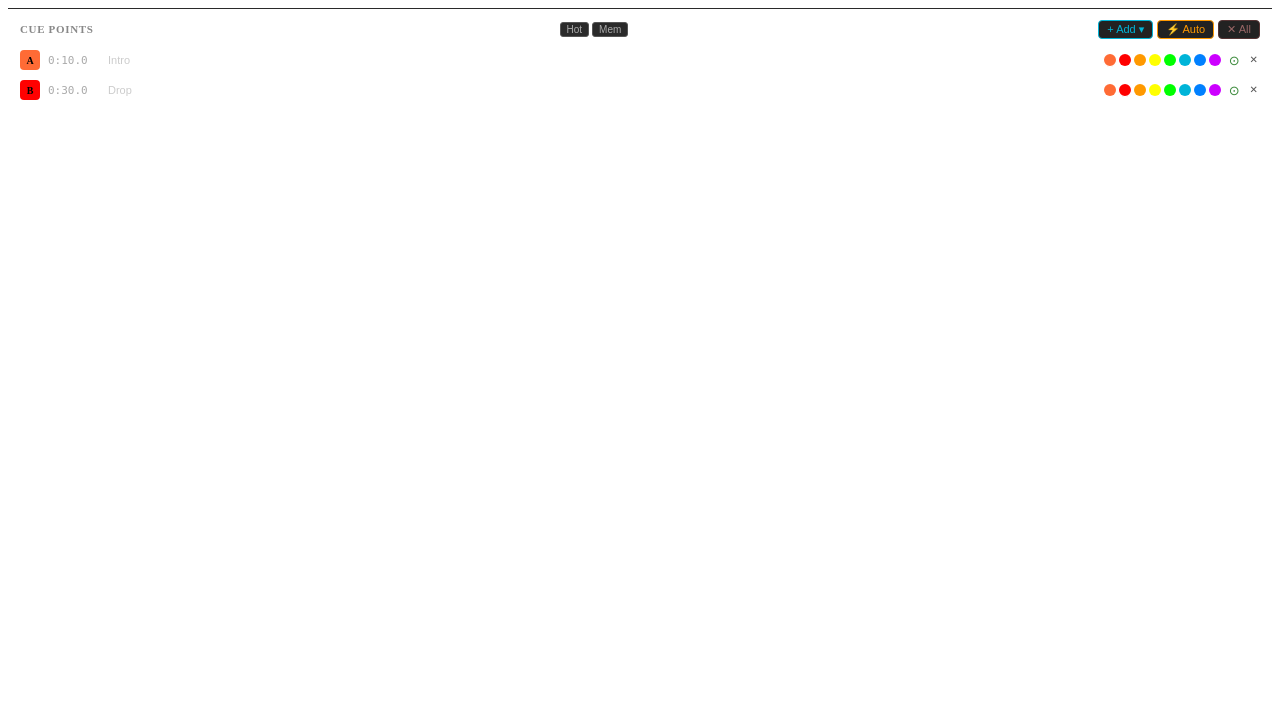
CuePointsEditor — hot cue slot swap › swaps both cues when the swap is confirmed
Click the text with class "cpe__badge" showing "B".
click(30, 90)  # box [20, 80, 40, 100]
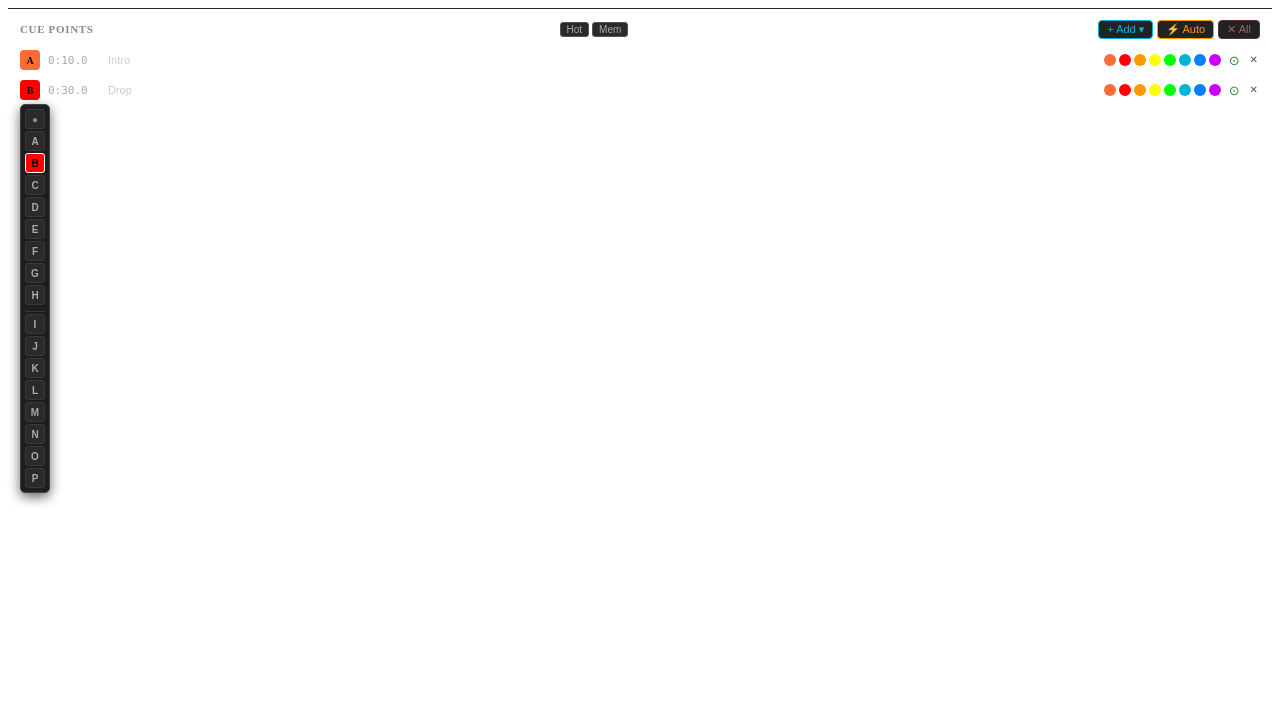
Click the button titled "Hot cue A".
click(35, 141)  # box [25, 131, 45, 151]
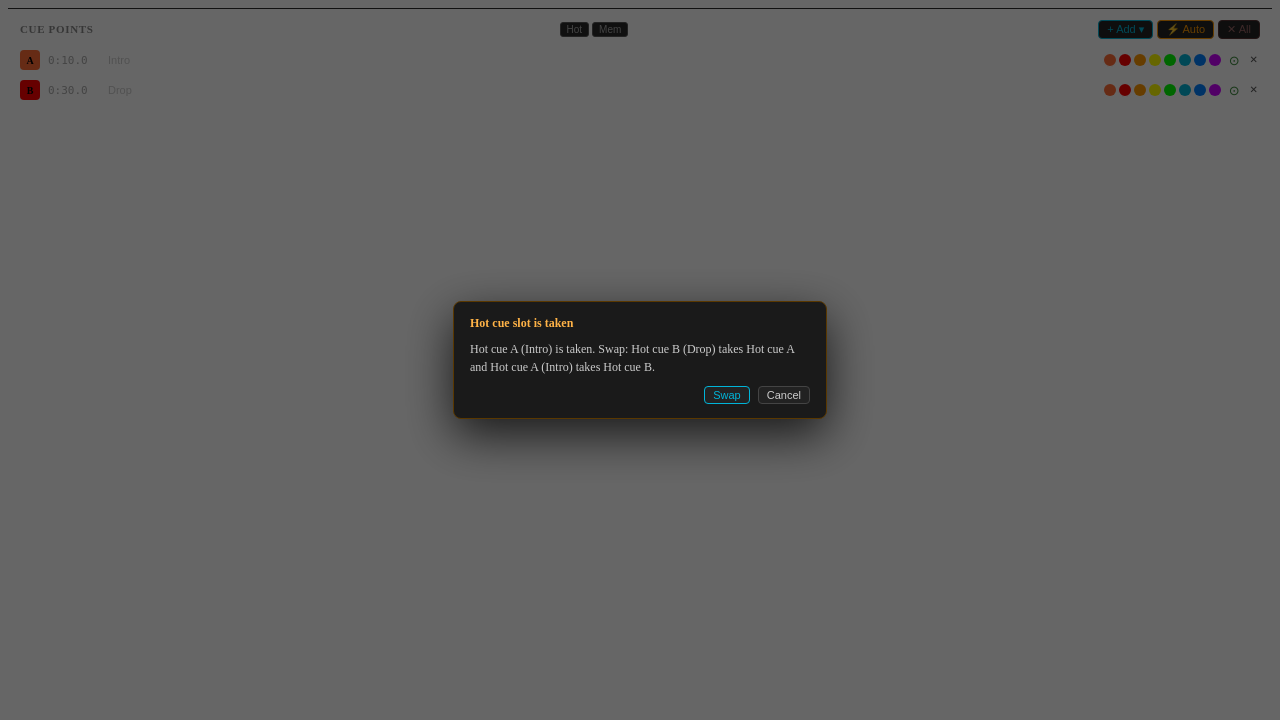
Click the button "Swap".
click(727, 395)  # box [704, 386, 750, 404]
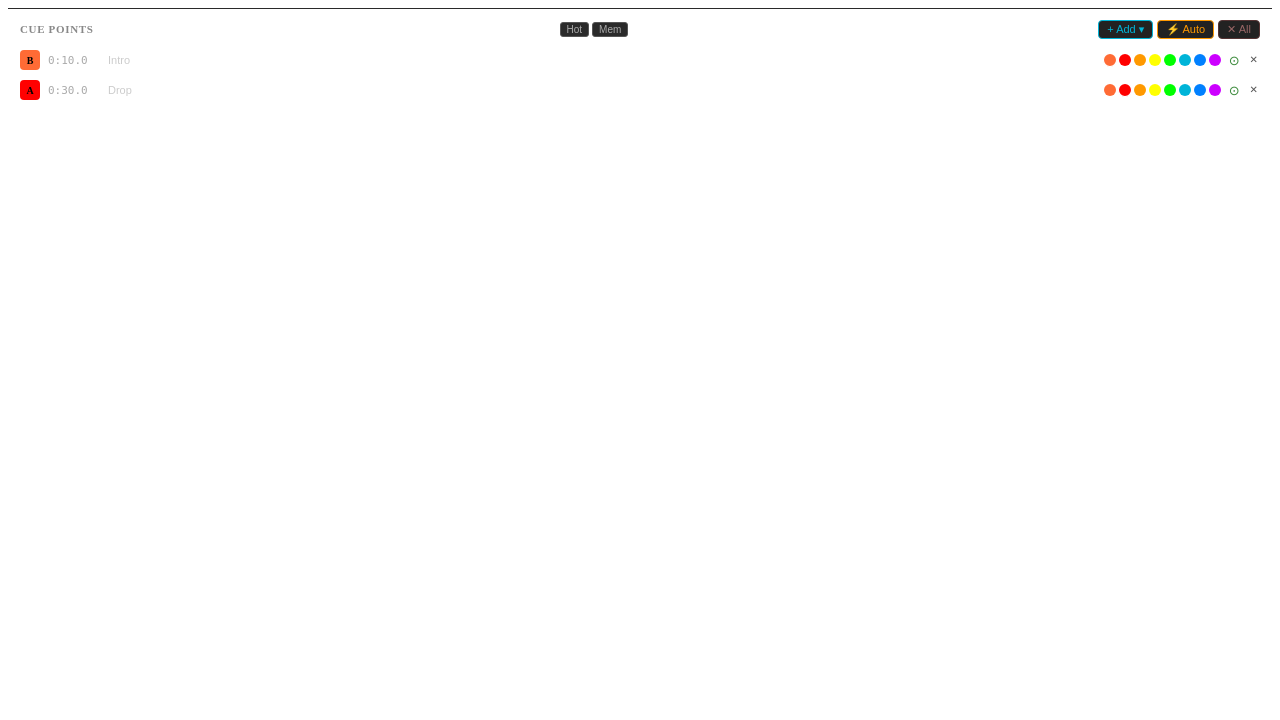
Expected: the dialog with class "cpe__confirm" is gone
